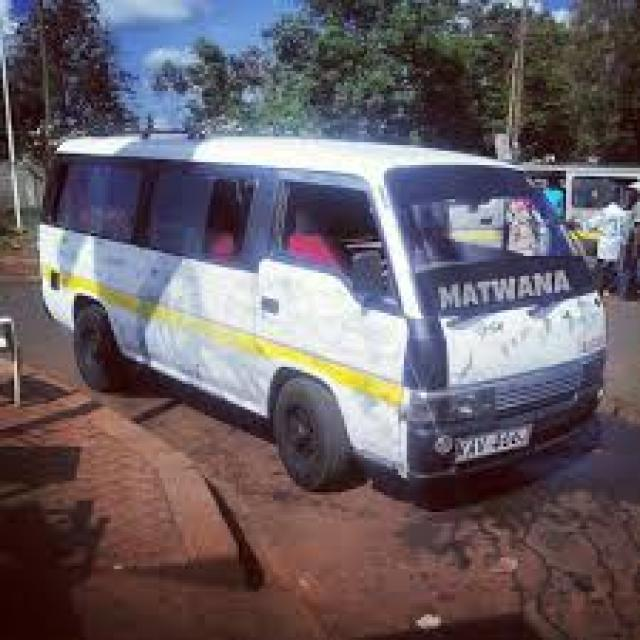matatu: (15, 67, 638, 570)
